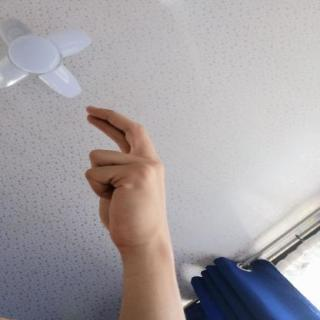ZAY: (76, 98, 180, 258)
